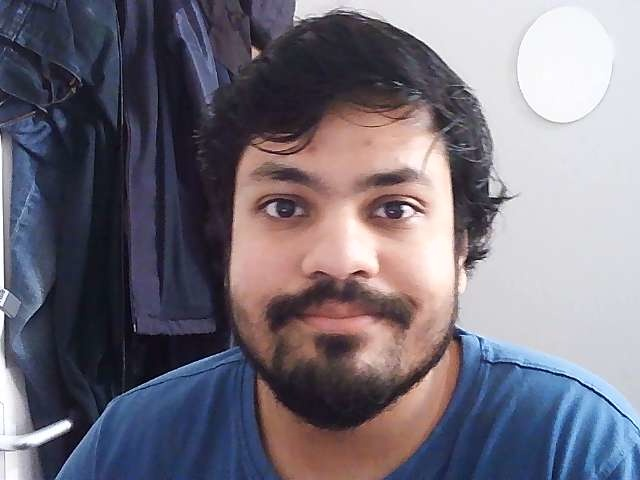Face: (202, 6, 505, 437)
